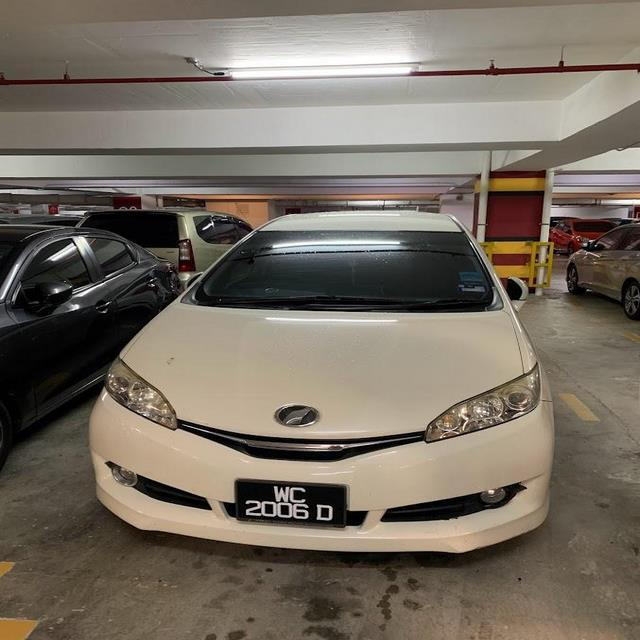License_Plate: (233, 472, 352, 532)
car: (90, 199, 564, 573)
